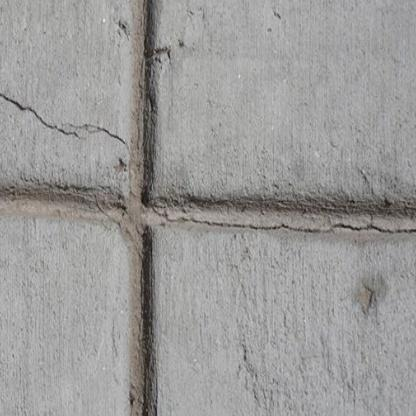Cracks: (0, 87, 130, 149), (149, 206, 324, 238), (329, 221, 416, 240)
